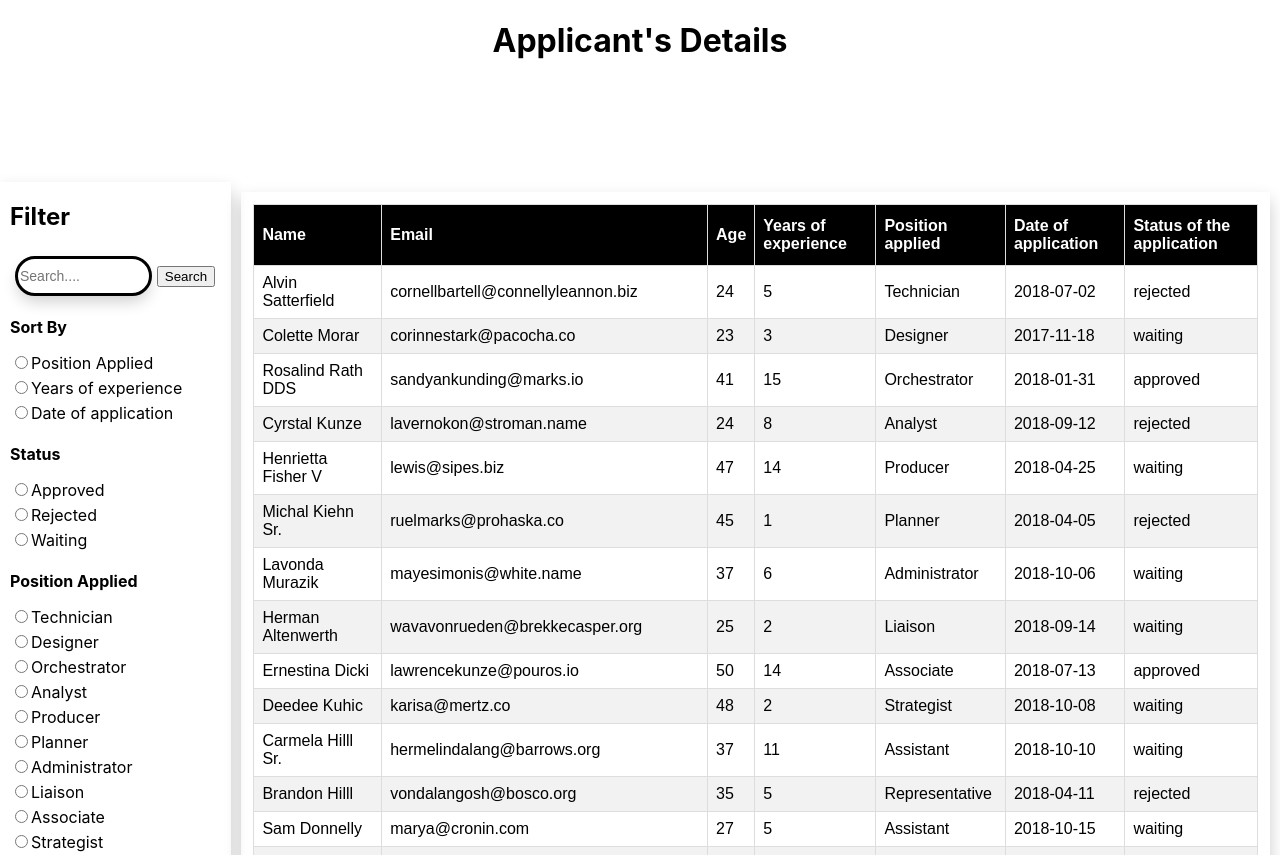
Test: Homepage › search for applicant in the list table
Type "Larry" into the field with placeholder "Search....".
click(83, 276); type("Larry")  # box x1=18 y1=259 x2=149 y2=293
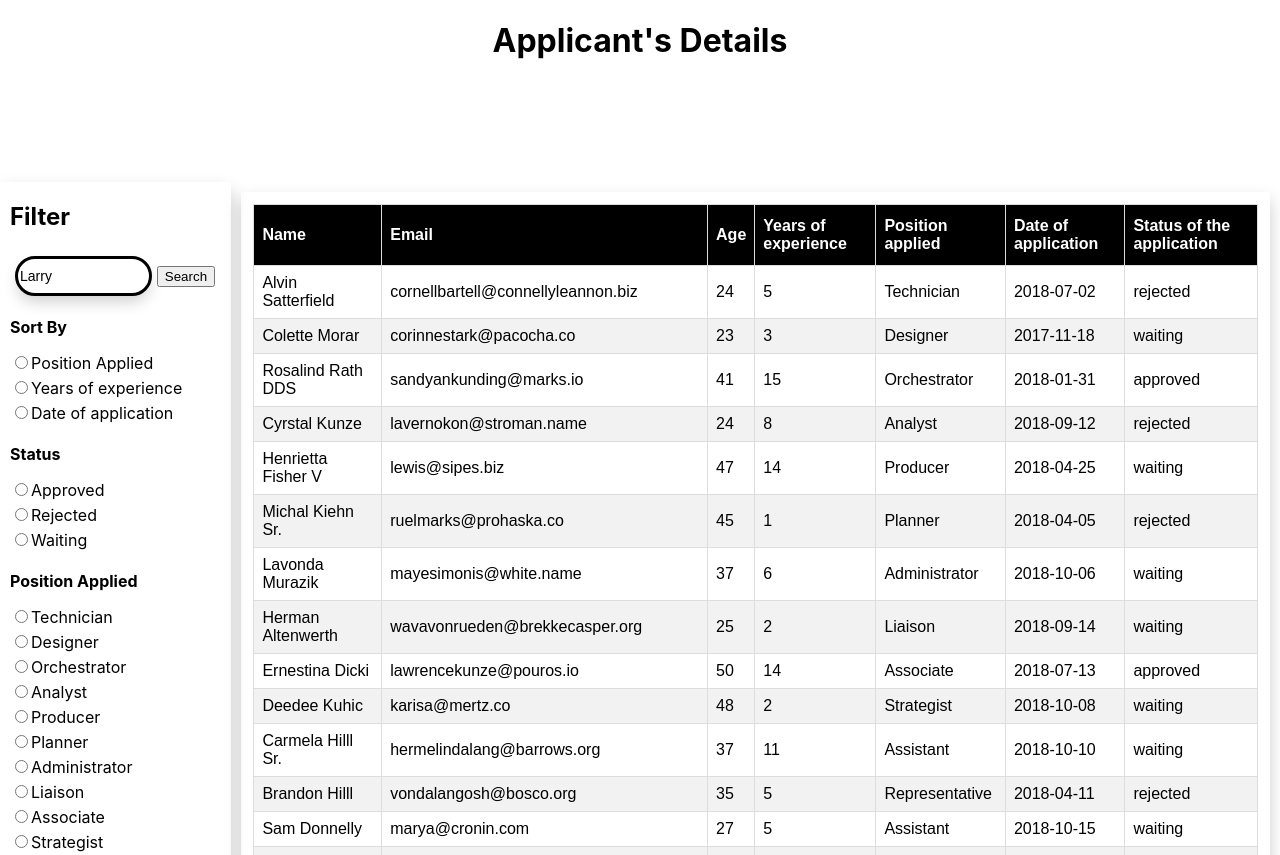
Click the button "Search".
click(186, 276)  # box x1=157 y1=266 x2=215 y2=287
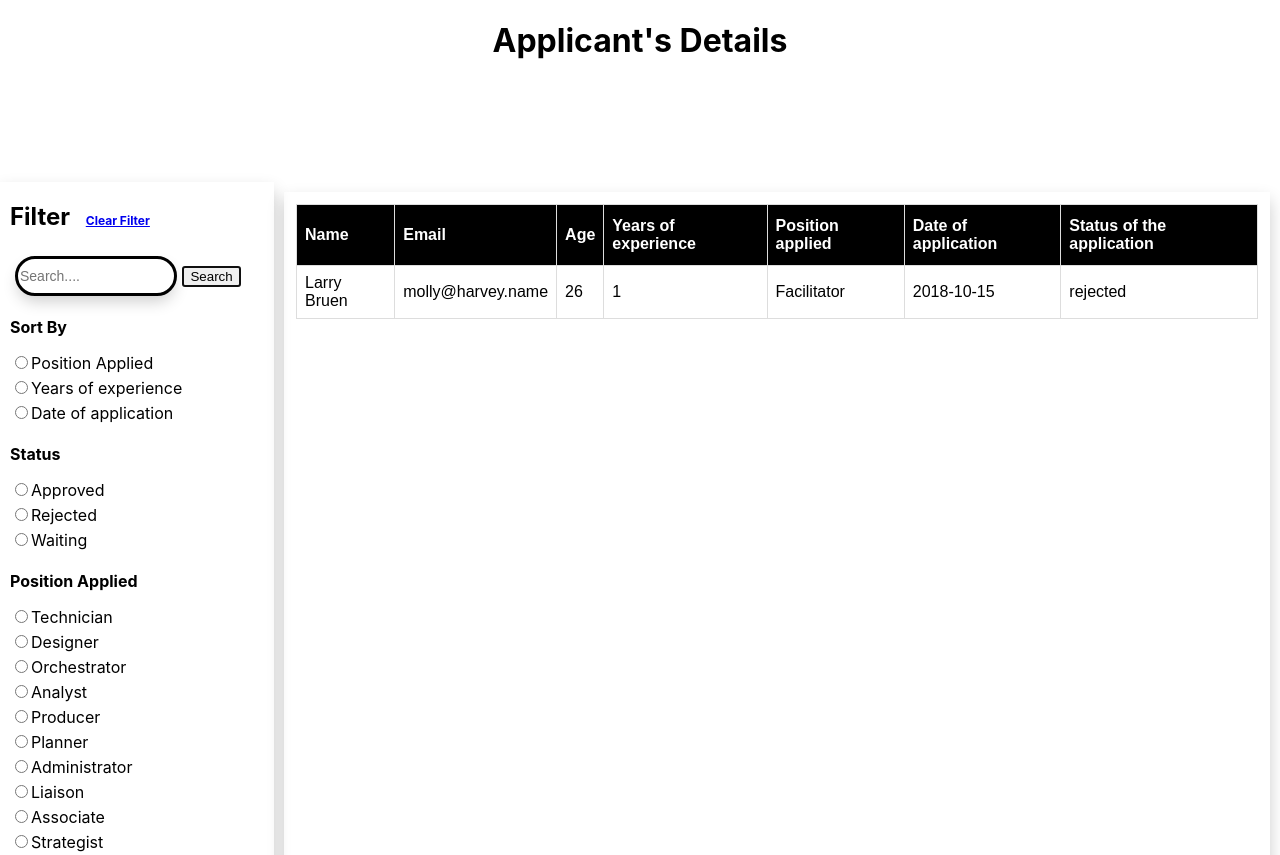
Now the text "Larry Bruen" is shown, box x1=297 y1=265 x2=395 y2=318
